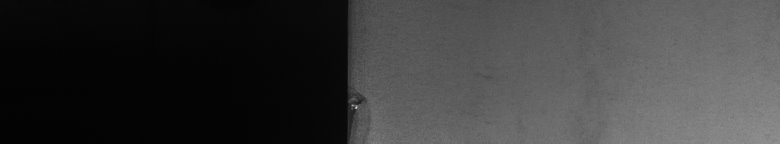hb: (356, 85, 376, 136)
